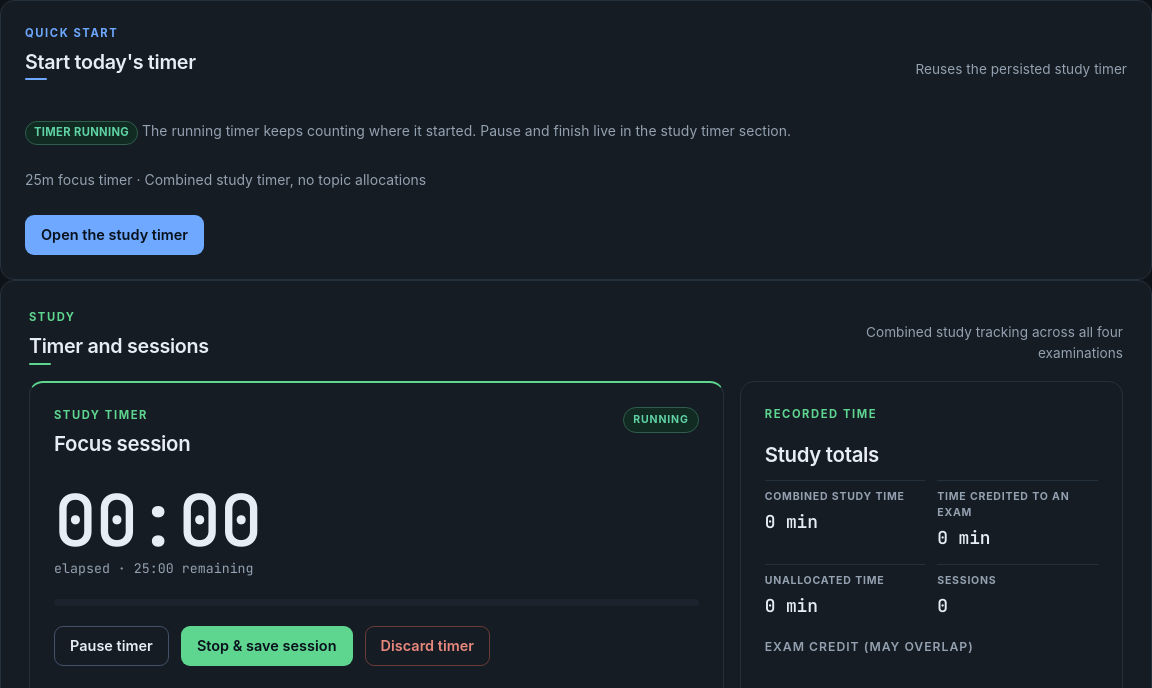
Test: QuickStartSection › reflects a StudySection pause without remounting Quick Start
The image size is (1152, 688).
Expected: the text "Timer running" is shown, [25,121,138,145]
Click the button "Pause timer" at (111, 646), box [54,626,169,666]
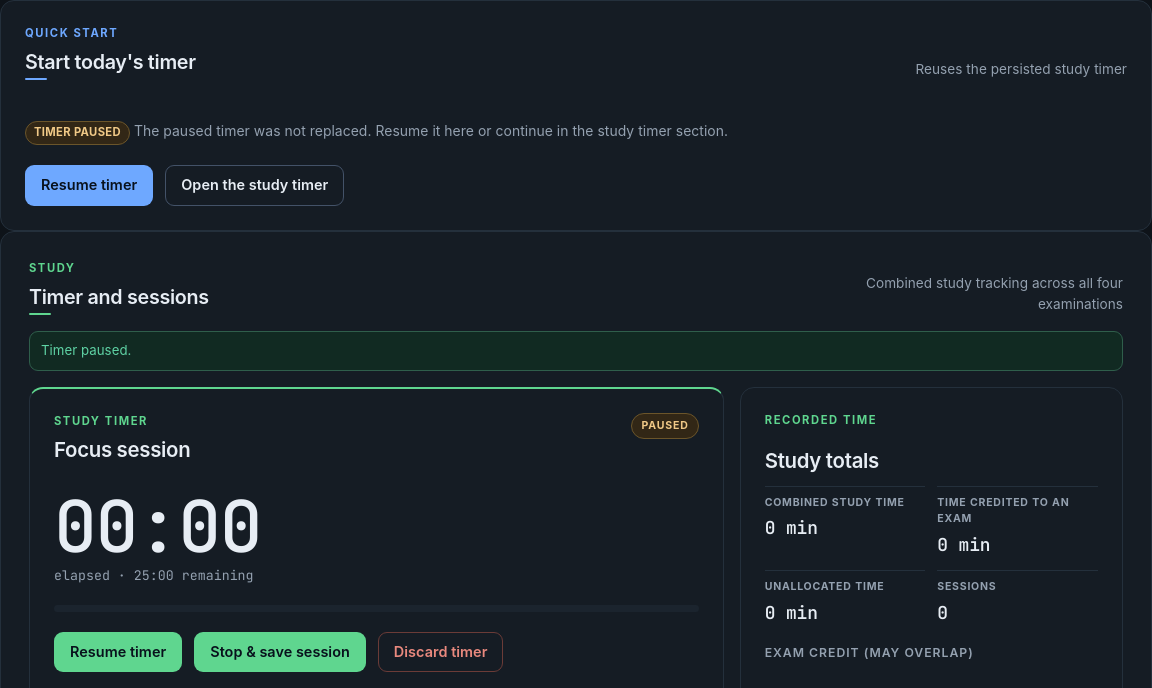
Result: the text "Timer paused" is shown at [25,121,130,145]
